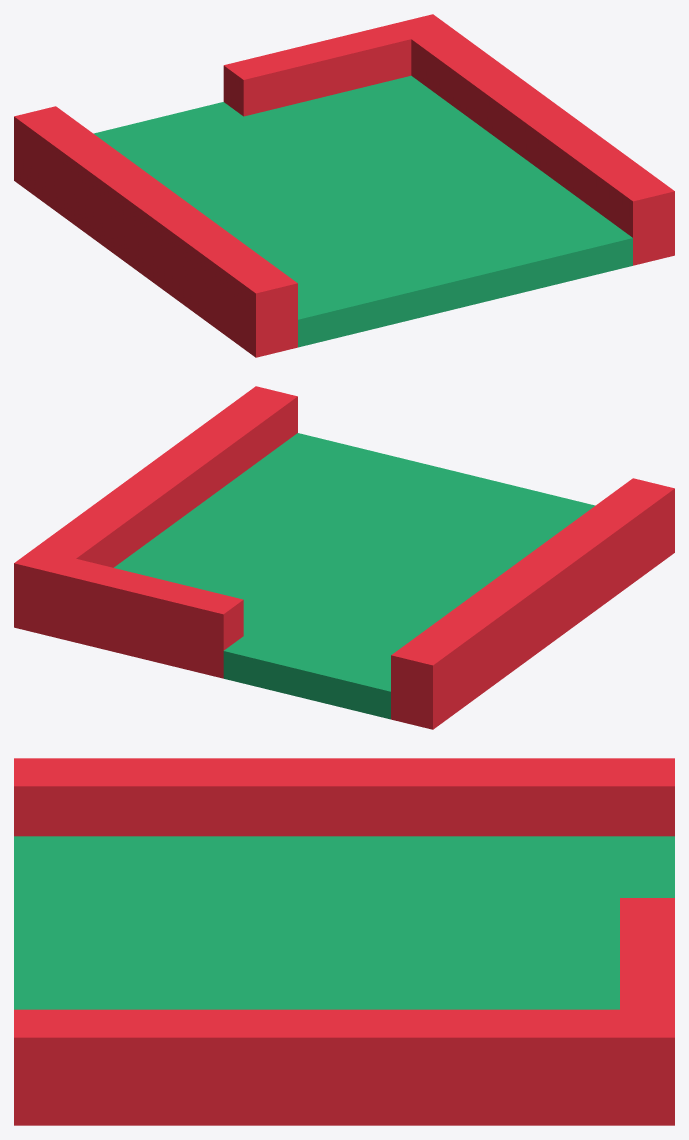
Rendered from wallLeft.fbx.
The picture shows the model from 3 angles, top to bottom: view 1: azimuth 30°, elevation 25°; view 2: azimuth 150°, elevation 25°; view 3: azimuth 270°, elevation 25°; orthographic projection. The views are drawn at different scales.
Visible parts, largest first — view 1: wallLeft; view 2: wallLeft; view 3: wallLeft.
Part boxes in pixels (box(x1,y1,x2,y2)): wallLeft: box(14, 14, 674, 357); wallLeft: box(14, 386, 674, 729); wallLeft: box(14, 758, 674, 1125).
Bounding box in the file's own units: 10 × 1.47 × 10.
